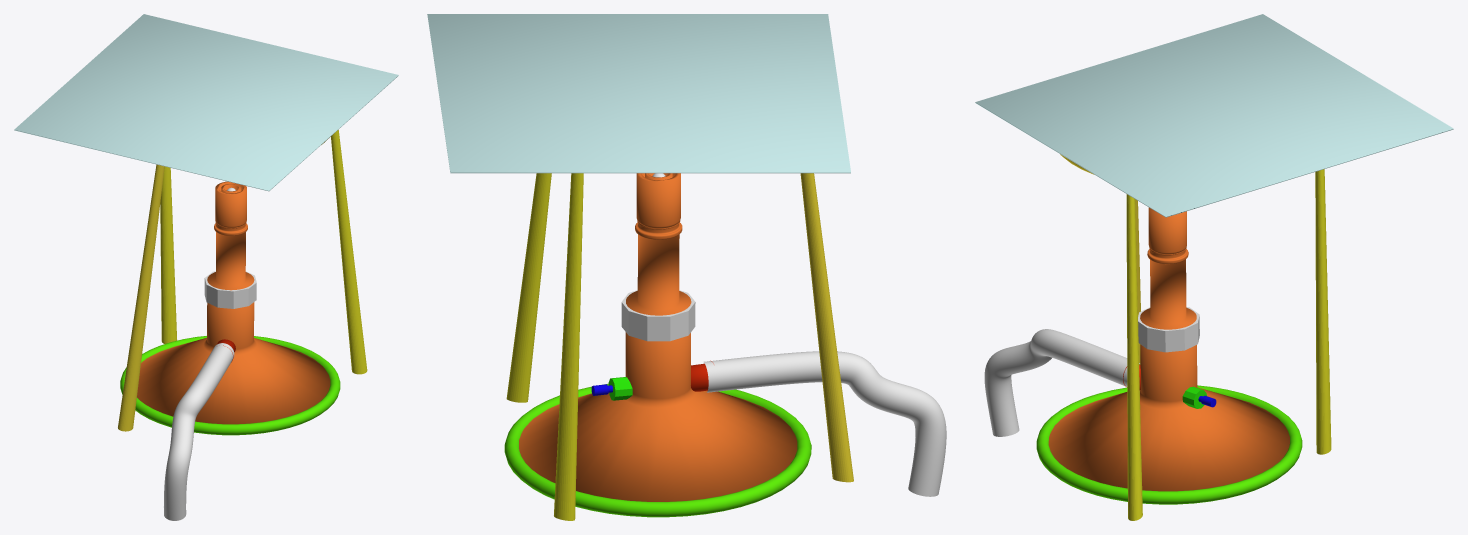
The model's file is latestbunsenNov19.glb.
3 views of the same model, side by side, from view 1: azimuth 30°, elevation 25°; view 2: azimuth 150°, elevation 25°; view 3: azimuth 270°, elevation 25° (orthographic). The views are drawn at different scales.
Parts seen in each view (by area): view 1: top-Plane, busernburner.001, ring-stand, busernburner.009, busernburner.006, busernburner.007; view 2: top-Plane, busernburner.001, ring-stand, busernburner.009, busernburner.006, busernburner.007; view 3: top-Plane, busernburner.001, ring-stand, busernburner.009, busernburner.006, busernburner.007.
Boxes of the visible parts, bbox=[...] form: top-Plane: bbox=[14, 14, 398, 191]; busernburner.001: bbox=[137, 181, 330, 424]; ring-stand: bbox=[118, 130, 367, 431]; busernburner.009: bbox=[164, 343, 234, 520]; busernburner.006: bbox=[120, 336, 340, 435]; busernburner.007: bbox=[204, 271, 256, 308]; top-Plane: bbox=[427, 14, 850, 173]; busernburner.001: bbox=[519, 173, 797, 501]; ring-stand: bbox=[506, 173, 853, 520]; busernburner.009: bbox=[703, 351, 946, 496]; busernburner.006: bbox=[504, 383, 811, 517]; busernburner.007: bbox=[621, 290, 695, 341]; top-Plane: bbox=[975, 14, 1453, 217]; busernburner.001: bbox=[1048, 207, 1289, 491]; ring-stand: bbox=[1060, 154, 1331, 520]; busernburner.009: bbox=[984, 329, 1139, 436]; busernburner.006: bbox=[1036, 385, 1302, 504]; busernburner.007: bbox=[1138, 307, 1199, 352].
Bounding box in the file's own units: 0.1969 × 0.1797 × 0.1964.
